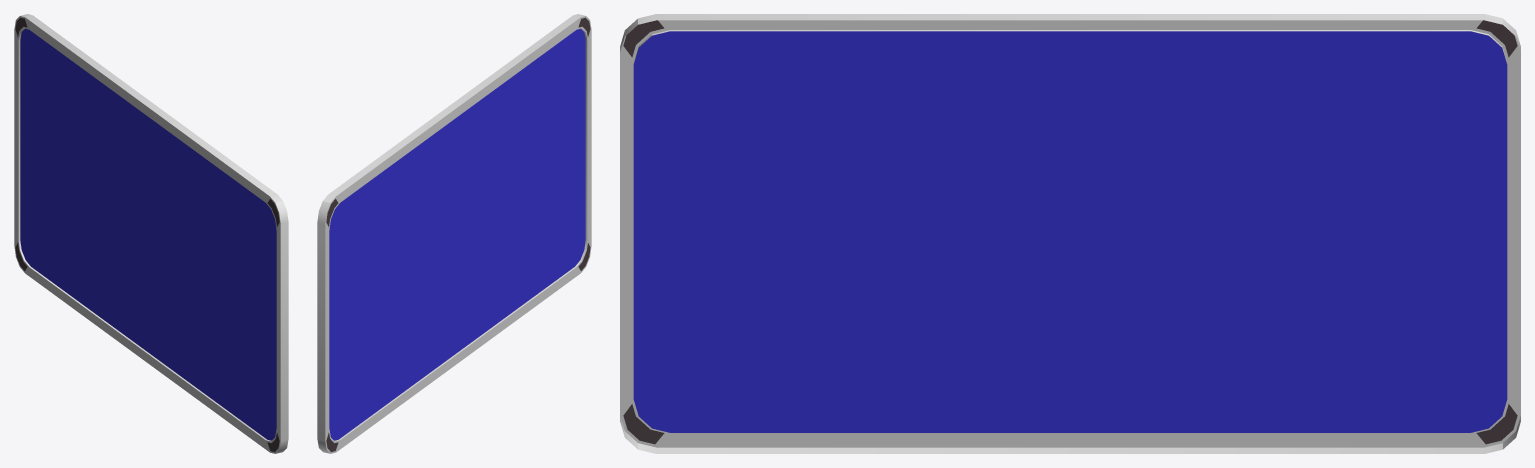
Rendered from board.fbx.
The picture shows the model from 3 angles, left to right: view 1: azimuth 30°, elevation 25°; view 2: azimuth 150°, elevation 25°; view 3: azimuth 270°, elevation 25°; orthographic projection. The views are drawn at different scales.
Parts seen in each view (by area): view 1: Cube.001; view 2: Cube.001; view 3: Cube.001.
Part boxes in pixels (<box>): Cube.001: <box>14,14,288,453</box>; Cube.001: <box>317,14,591,453</box>; Cube.001: <box>620,14,1520,453</box>.
Bounding box in the file's own units: 4.29 × 133 × 250.
